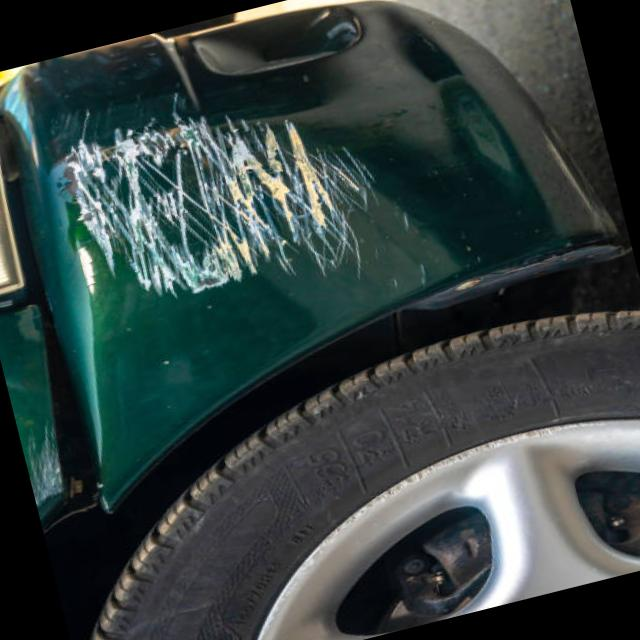Crack: (18, 314, 101, 516)
Scratch: (63, 116, 376, 296), (66, 84, 178, 138), (16, 418, 63, 506), (70, 225, 102, 295), (382, 255, 425, 300)
